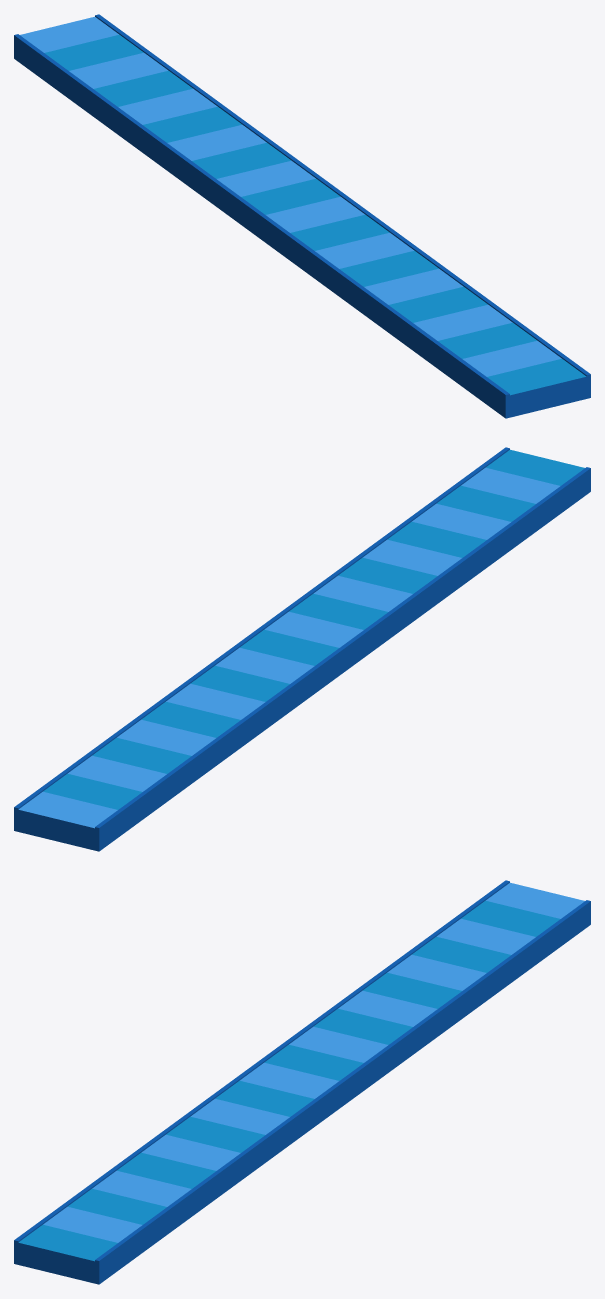
The model's file is road_blue_10.fbx.
3 renders of one model, top to bottom at view 1: azimuth 30°, elevation 25°; view 2: azimuth 150°, elevation 25°; view 3: azimuth 330°, elevation 25°, orthographic.
Parts seen in each view (by area): view 1: road_blue_10; view 2: road_blue_10; view 3: road_blue_10.
Part boxes in pixels (box(x1,y1,x2,y2)): road_blue_10: box(14, 14, 590, 418); road_blue_10: box(14, 447, 590, 851); road_blue_10: box(14, 880, 590, 1284).
Bounding box in the file's own units: 2 × 0.5304 × 20.
